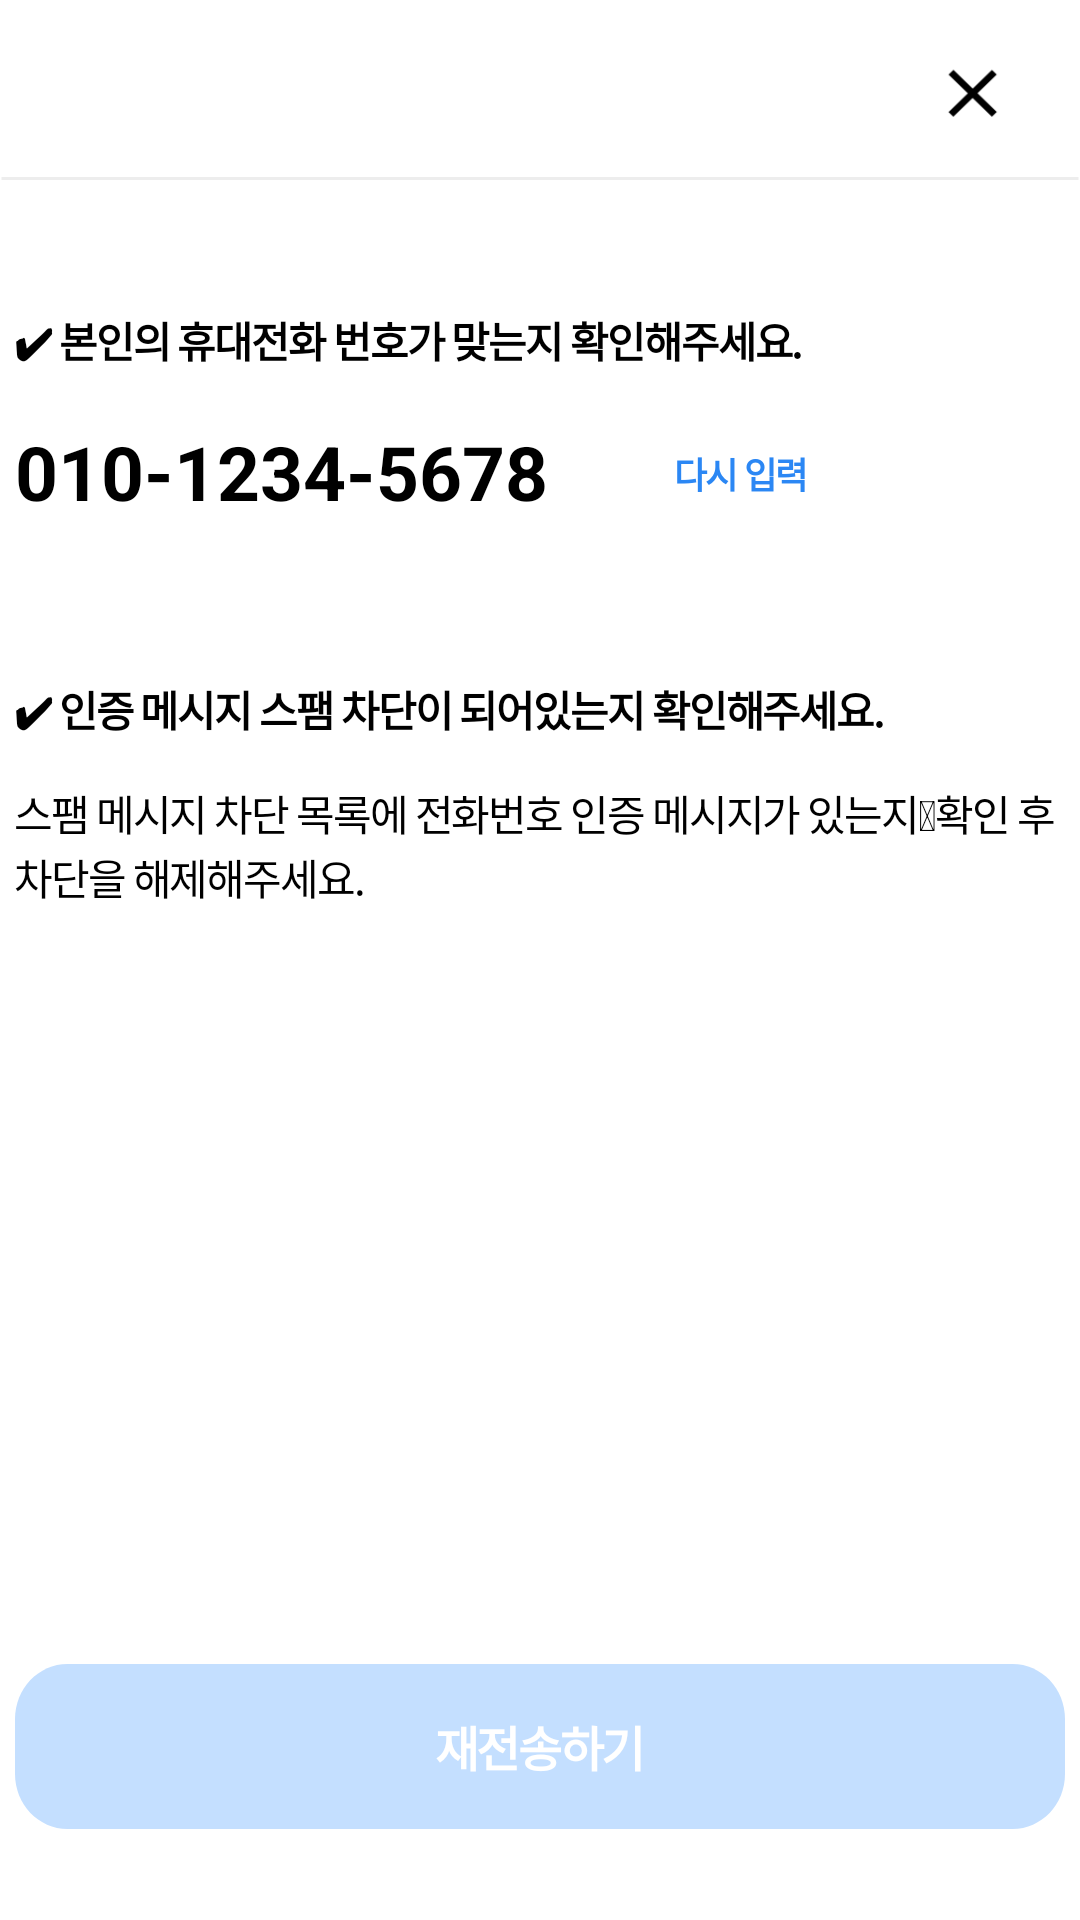

Where to tap for icons on this 1080px x 1920px app screen, as point (x, y):
cancelbutton: point (972, 93)
